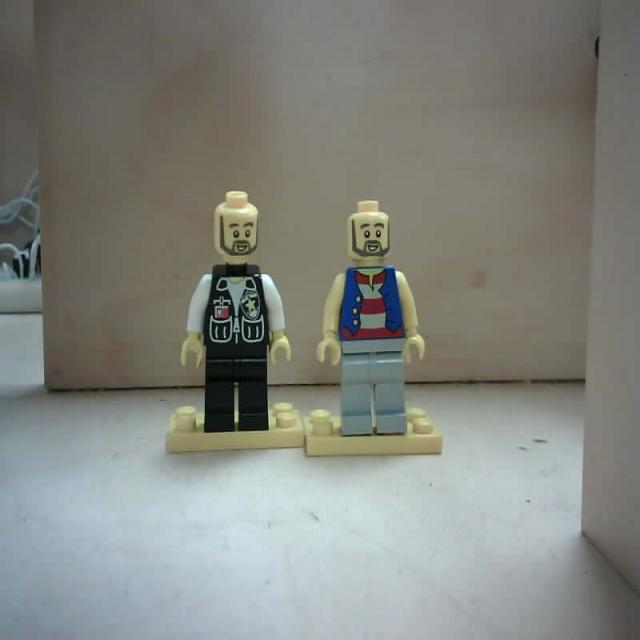Lego-People: (296, 198, 444, 460), (166, 188, 304, 452)
